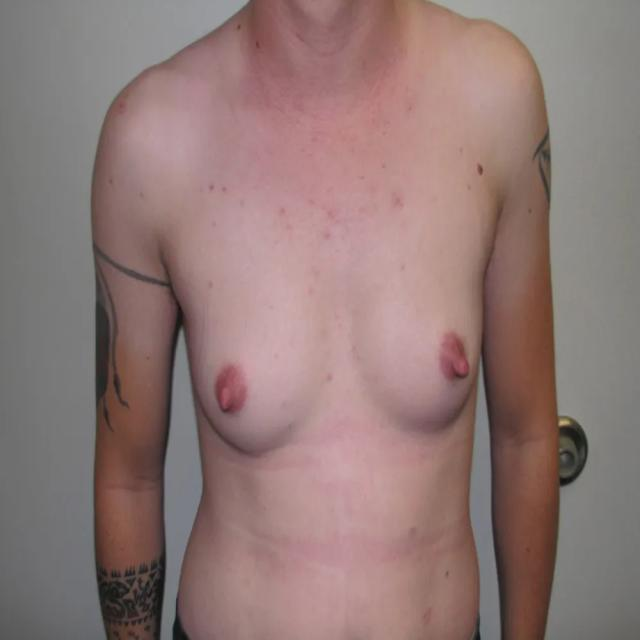Seno ileso: (178, 268, 332, 474), (339, 254, 490, 454)
